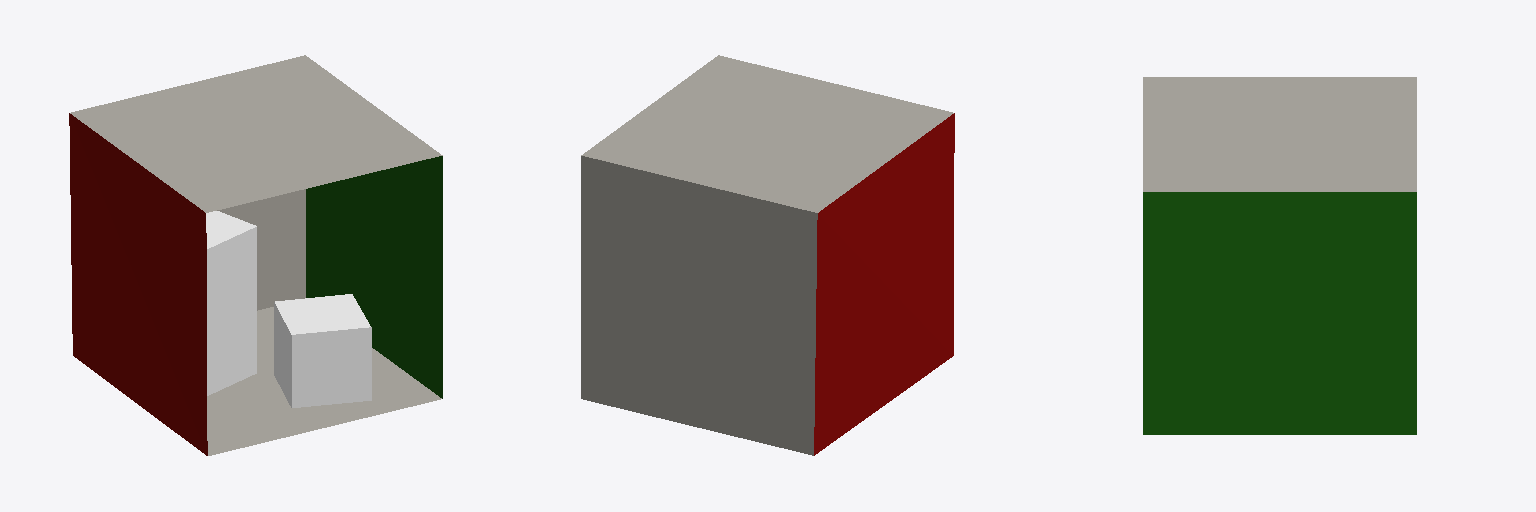
Rendered from CornellBox-Original2.obj.
The picture shows the model from 3 angles: view 1: azimuth 30°, elevation 25°; view 2: azimuth 150°, elevation 25°; view 3: azimuth 270°, elevation 25°; orthographic projection.
Parts seen in each view (by area): view 1: CornellBox-Original; view 2: CornellBox-Original; view 3: CornellBox-Original.
Boxes of the visible parts, x1,y1,x2,y2 form: CornellBox-Original: [69, 55, 442, 455]; CornellBox-Original: [581, 55, 954, 455]; CornellBox-Original: [1143, 77, 1416, 434].
Bounding box in the file's own units: 2.02 × 1.99 × 2.03.